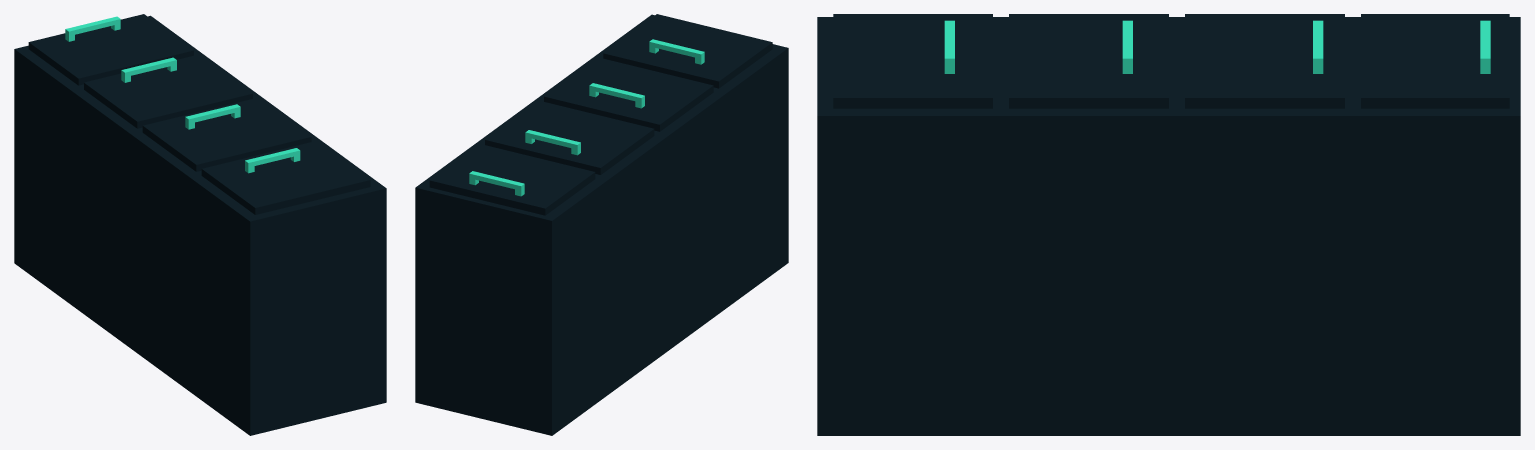
File: CabinetSmall.fbx
The picture shows the model from 3 angles, left to right: view 1: azimuth 30°, elevation 25°; view 2: azimuth 150°, elevation 25°; view 3: azimuth 270°, elevation 25°; orthographic projection. The views are drawn at different scales.
Parts seen in each view (by area): view 1: filing cabinetsegment00, CabindetHandles000.007, CabindetHandles000.005, CabindetHandles000.001, CabindetHandles000.006; view 2: filing cabinetsegment00, CabindetHandles000.005, CabindetHandles000.001, CabindetHandles000.006, CabindetHandles000.007; view 3: filing cabinetsegment00.
Part boxes in pixels (x1,y1,x2,y2): filing cabinetsegment00: (14,14,386,435); CabindetHandles000.007: (65,16,120,41); CabindetHandles000.005: (185,104,240,129); CabindetHandles000.001: (245,148,300,173); CabindetHandles000.006: (121,57,176,82); filing cabinetsegment00: (415,14,788,435); CabindetHandles000.005: (589,83,644,108); CabindetHandles000.001: (649,39,704,64); CabindetHandles000.006: (525,130,580,155); CabindetHandles000.007: (469,171,524,196); filing cabinetsegment00: (817,14,1520,435).
Size of the model in its own units: 33385 by 54199 by 99967.
Materials: 5 (5 with a texture image).
